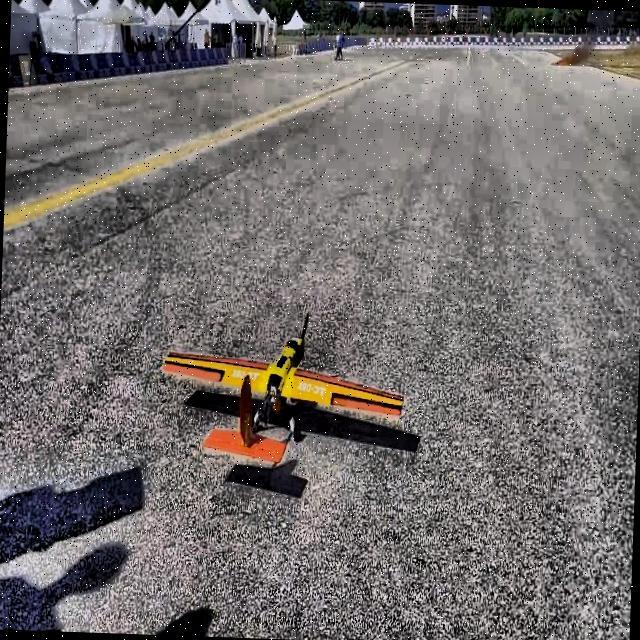iha: (155, 306, 425, 471)
